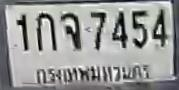1: (16, 13, 28, 50)
4: (111, 11, 126, 48), (152, 8, 166, 46)
5: (131, 9, 147, 48)
7: (89, 11, 105, 49)
A01: (35, 12, 56, 51)
A08: (60, 12, 82, 50)
BKK: (32, 62, 154, 85)
